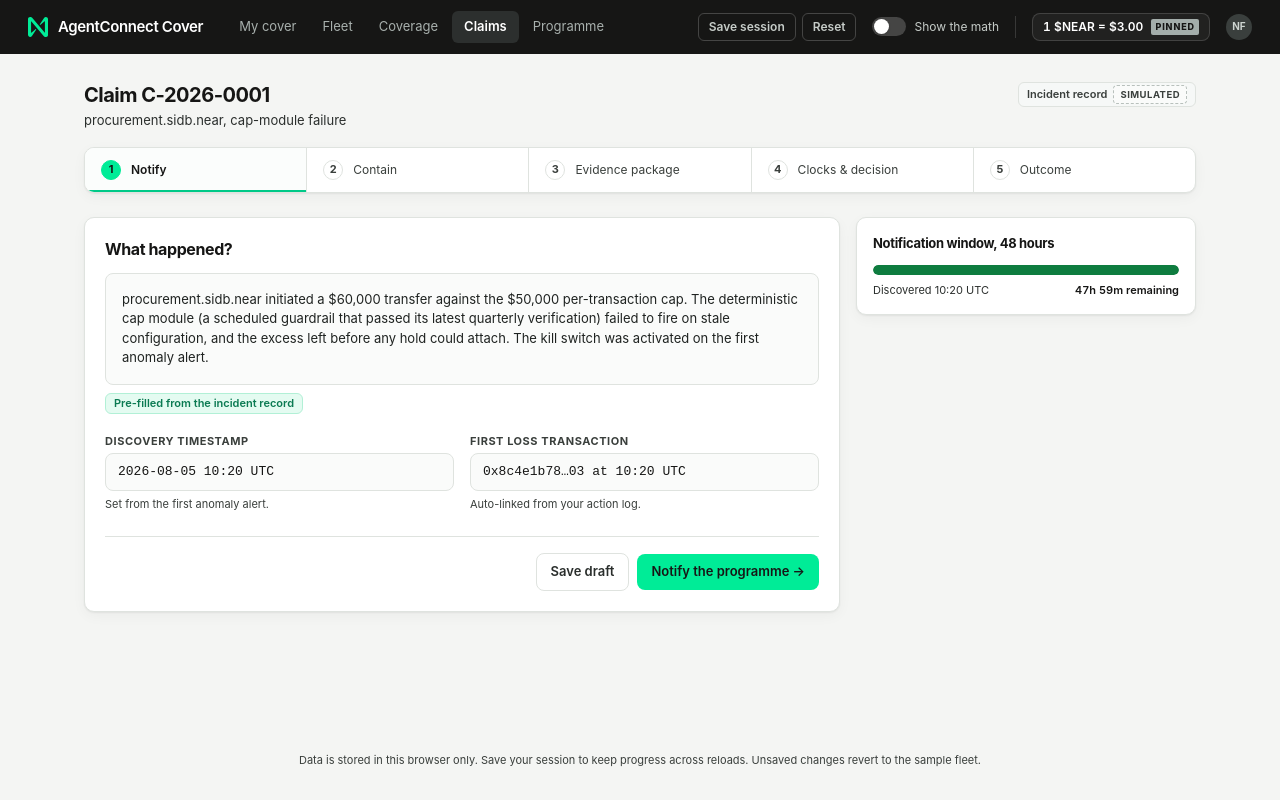
Test: evidence step UI (AC-9) › shows 6 auto-attached, greys N/A rows, ring counts applicable only
Click the button with test id "notify-programme" at point(728, 572), box left=637, top=554, right=819, bottom=590
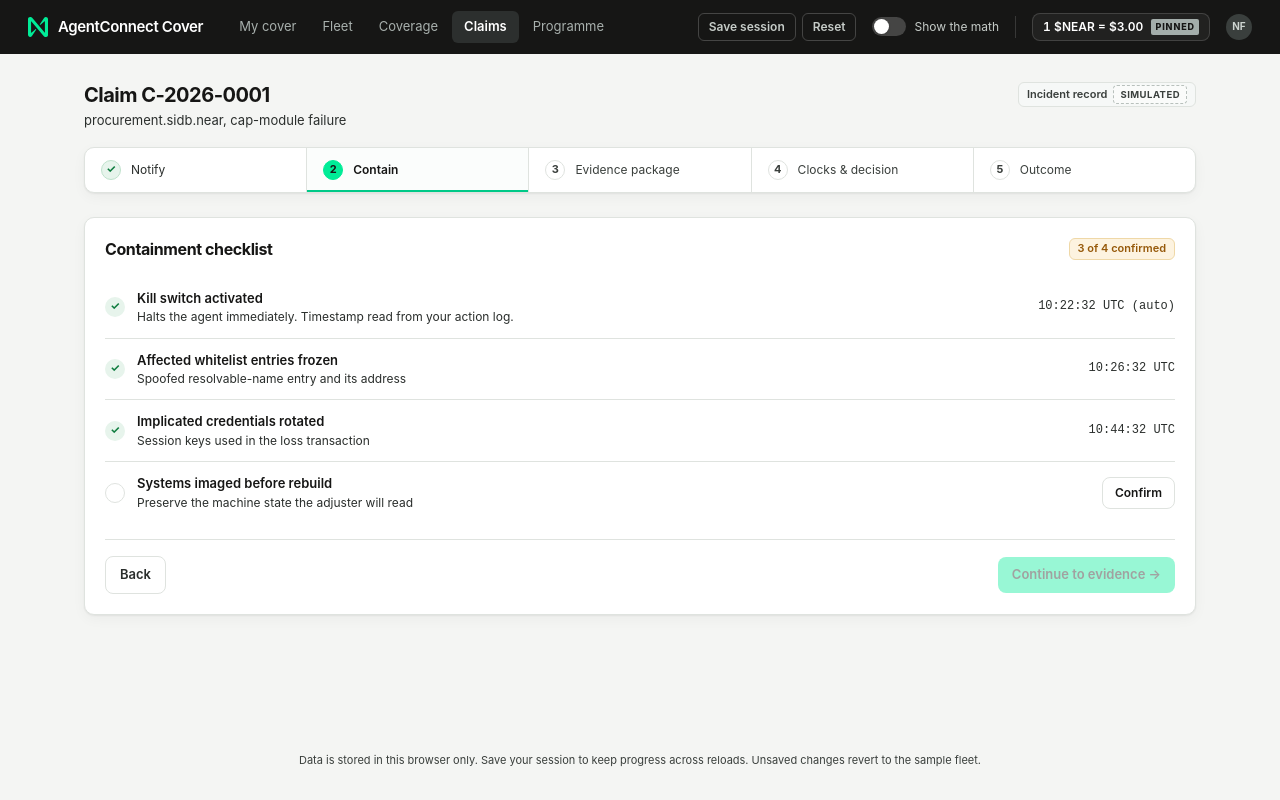
Click the button with test id "contain-confirm-imaging" at point(1138, 493), box left=1102, top=477, right=1175, bottom=508
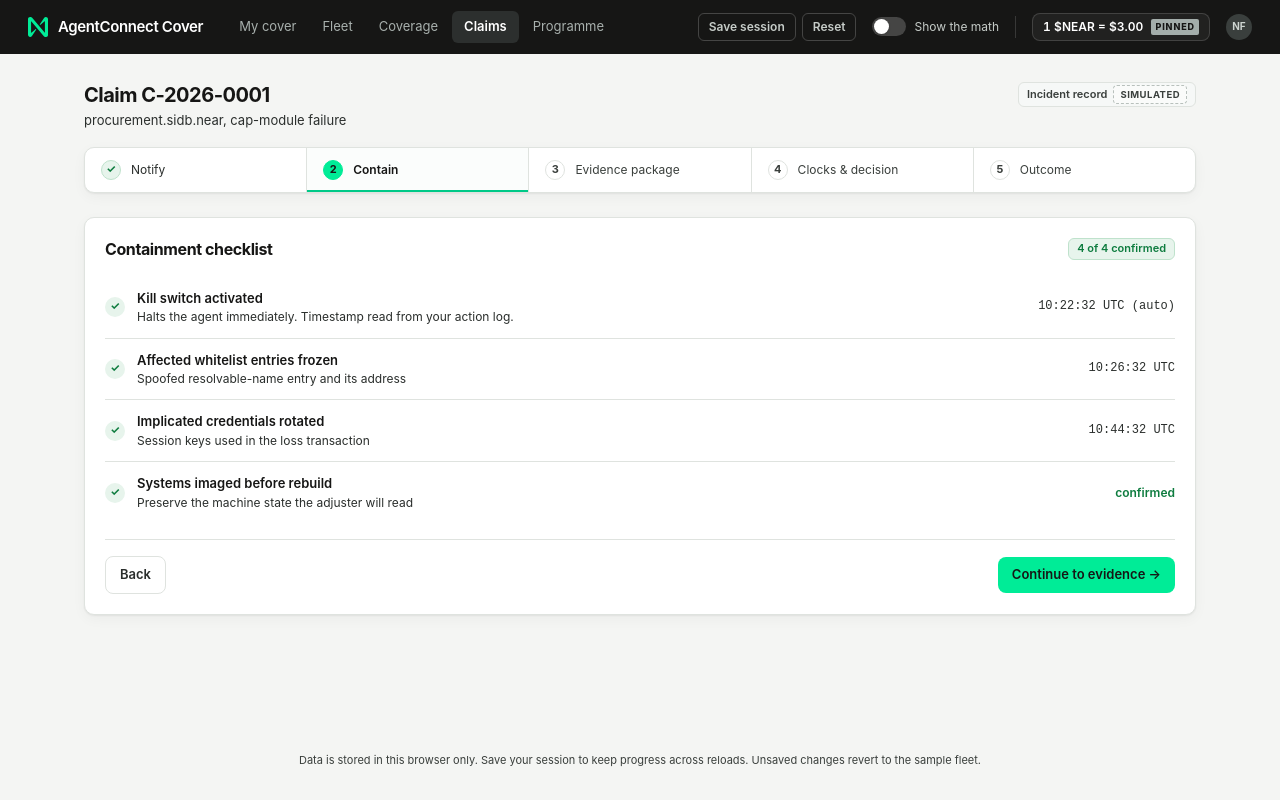
Click the button with test id "contain-continue" at point(1086, 575), box left=998, top=557, right=1175, bottom=593
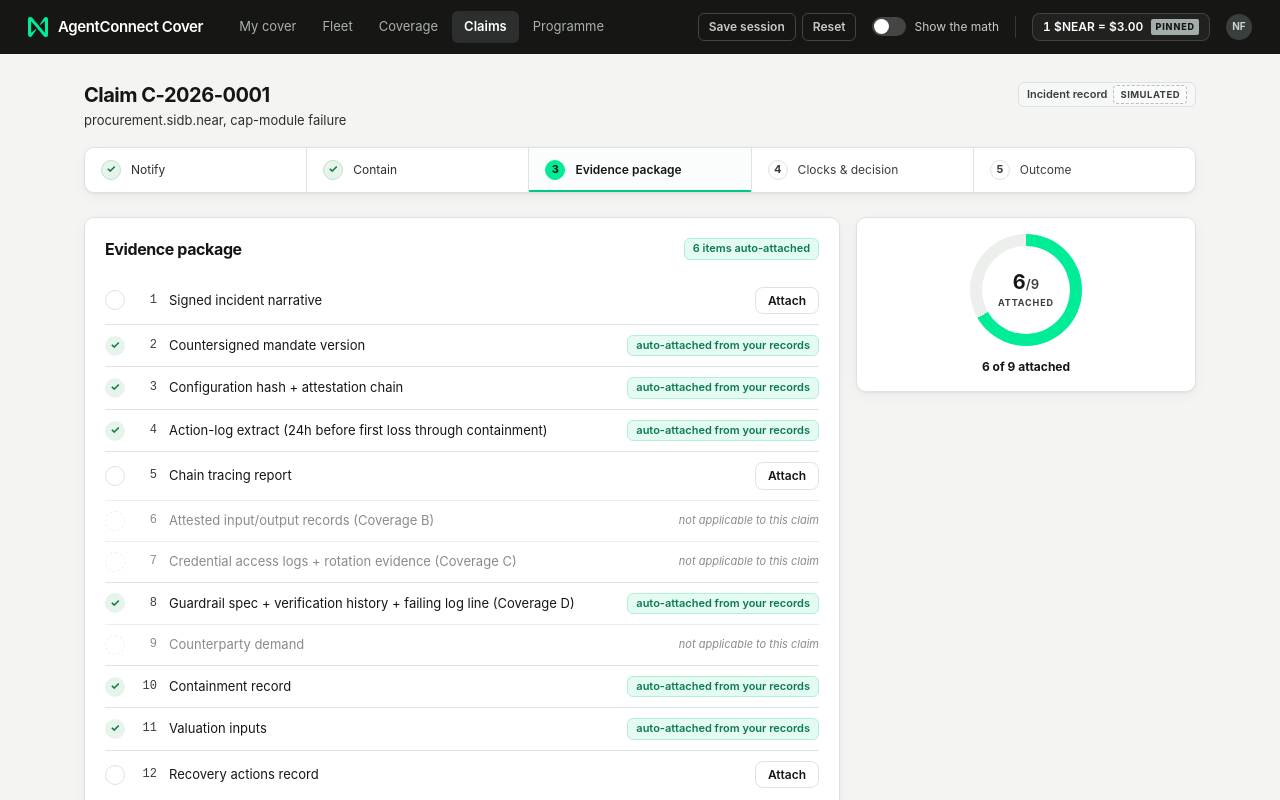
Now the text with test id "evidence-auto-count" reads "6 items auto-attached", box left=684, top=238, right=819, bottom=260
Now the element with test id "evidence-ring-caption" reads "6 of 9 attached", box left=982, top=358, right=1070, bottom=374
